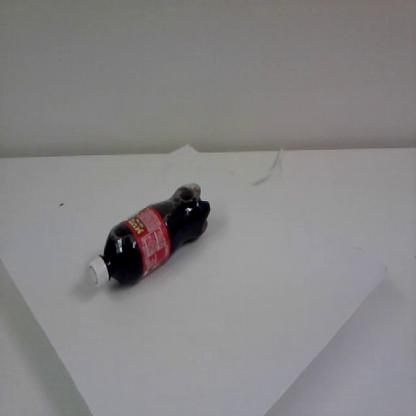bottle: (85, 178, 210, 294)
